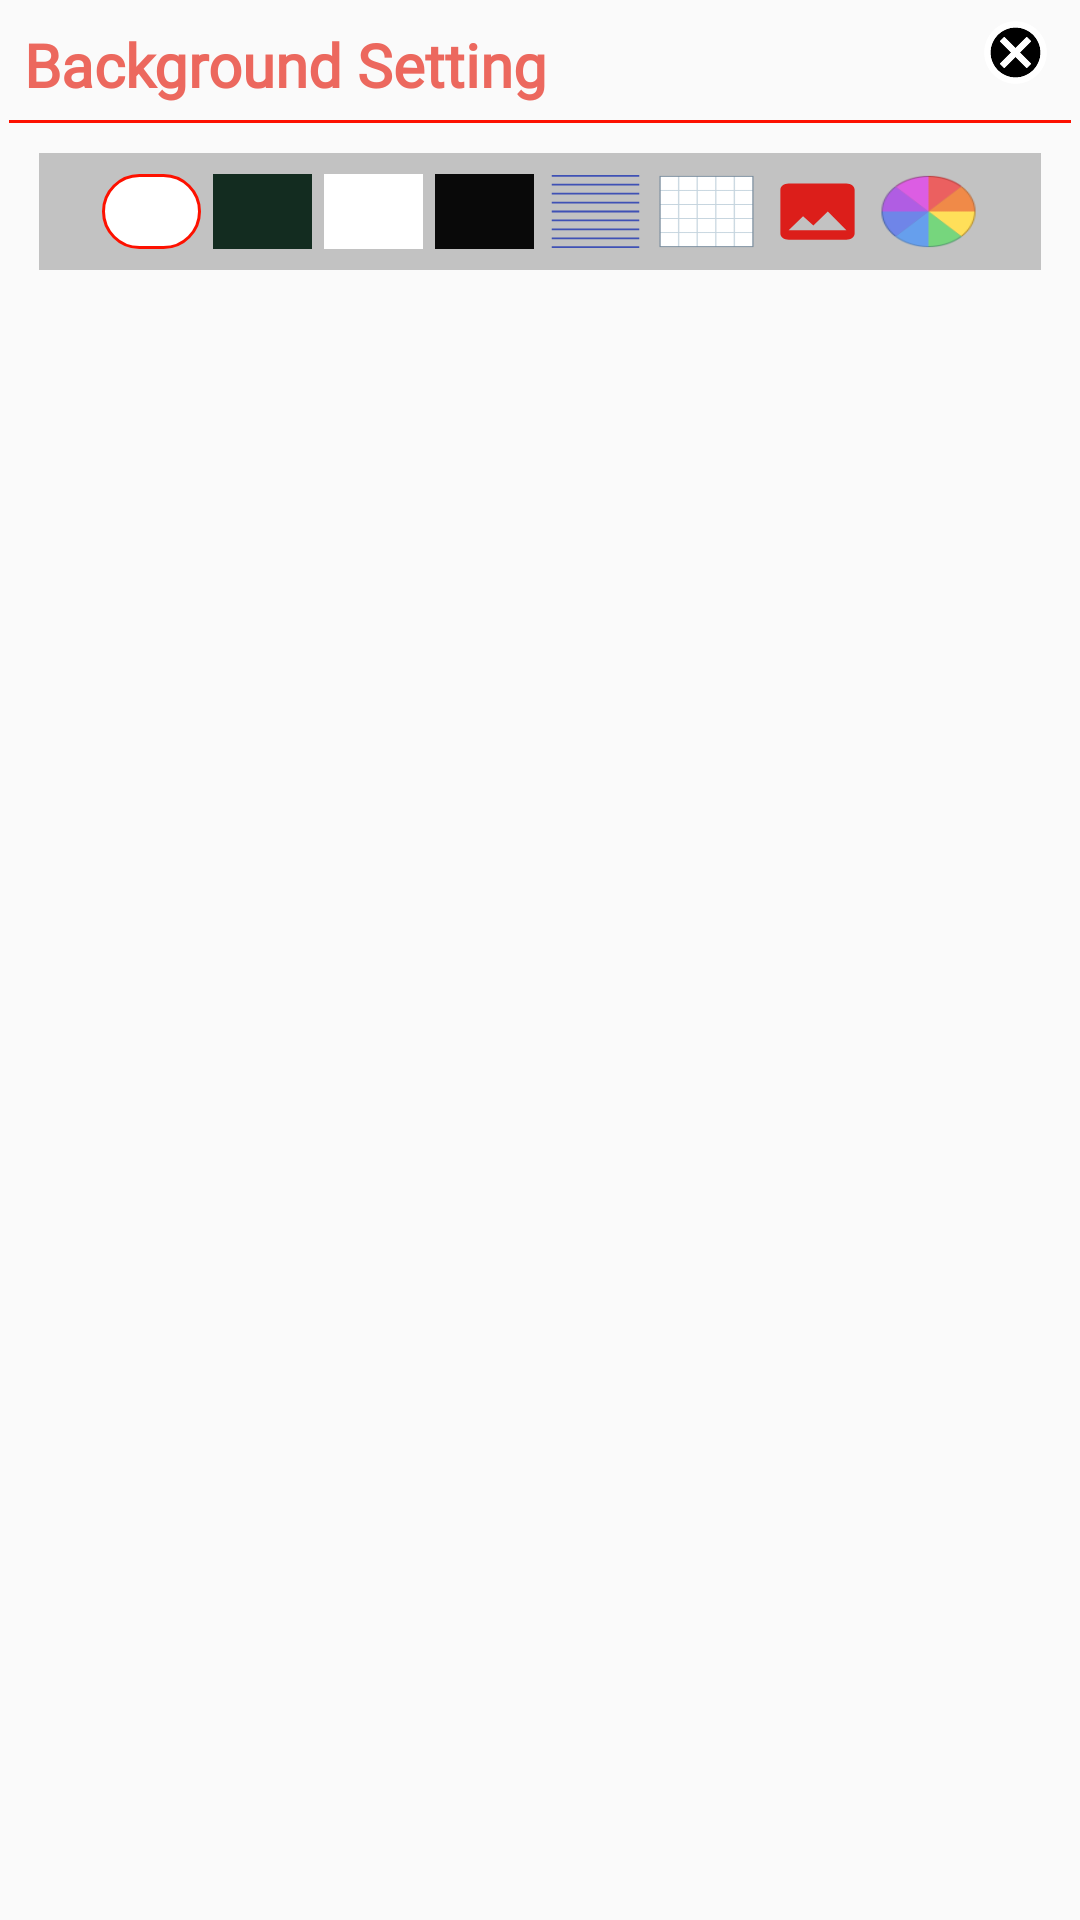

Named icons in this screenshot (1080 × 1920) and their centers, point (x, y):
Backgroung checks: point (706, 211)
cancel: point (1015, 52)
line: point (595, 211)
